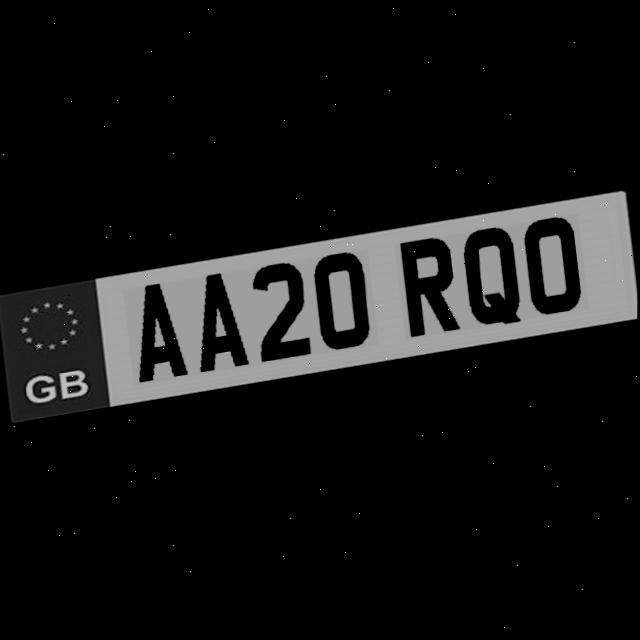license-plates: (0, 188, 638, 422)
